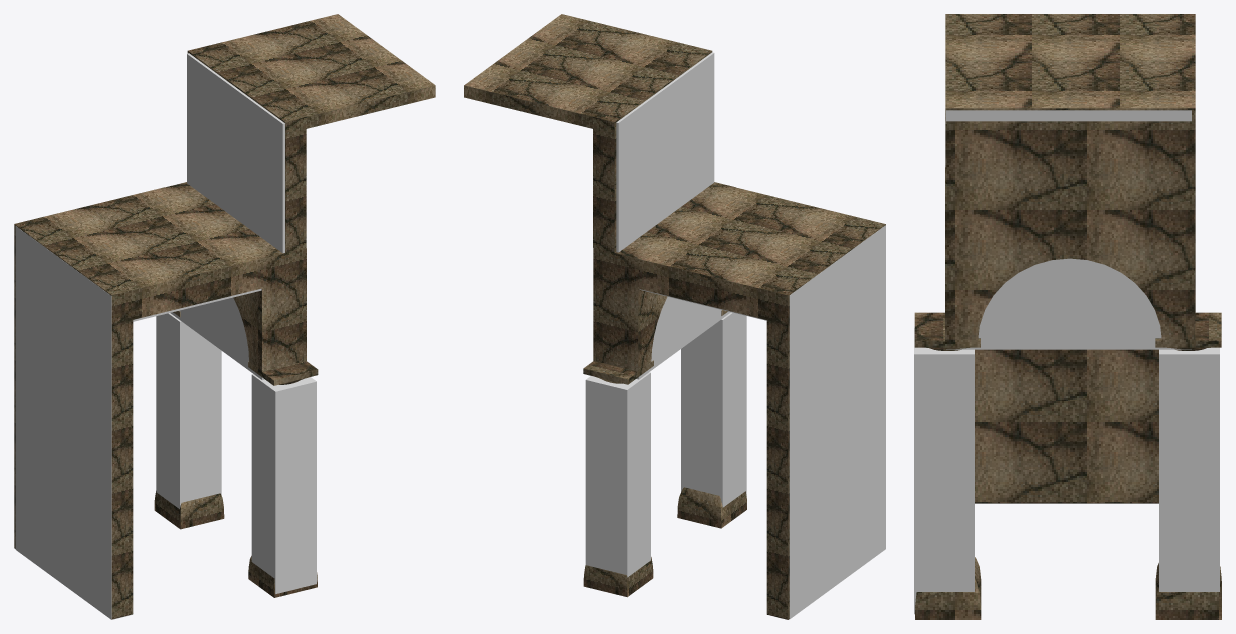
File: Rod.gltf
3 renders of one model, left to right at view 1: azimuth 30°, elevation 25°; view 2: azimuth 150°, elevation 25°; view 3: azimuth 270°, elevation 25°, orthographic. The views are drawn at different scales.
Parts seen in each view (by area): view 1: COL.002, Pedestal.001; view 2: COL.002, Pedestal.001; view 3: Pedestal.001, COL.002.
Part boxes in pixels (box(x1,y1,x2,y2)): COL.002: box(15, 53, 316, 619); Pedestal.001: box(14, 14, 435, 619); COL.002: box(585, 52, 885, 619); Pedestal.001: box(464, 14, 885, 619); Pedestal.001: box(914, 14, 1221, 619); COL.002: box(914, 110, 1219, 614).
Bounding box in the file's own units: 30 × 40.83 × 19.22.
1 material, 1 textured.
